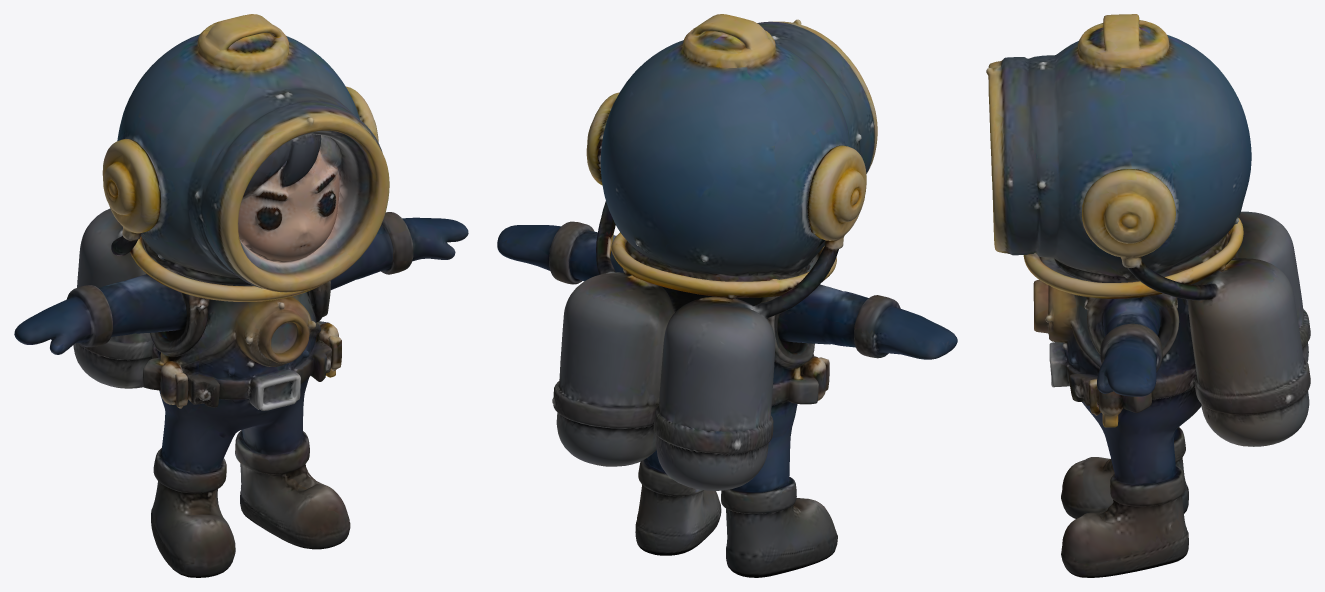
Rendered from tripo_convert_701a39bc-8394-4911-98df-e7edcb8944c2.fbx.
The picture shows the model from 3 angles, left to right: view 1: azimuth 30°, elevation 25°; view 2: azimuth 150°, elevation 25°; view 3: azimuth 270°, elevation 25°; orthographic projection.
Parts seen in each view (by area): view 1: tripo_node_701a39bc; view 2: tripo_node_701a39bc; view 3: tripo_node_701a39bc.
Part boxes in pixels (left/top/right/bottom): tripo_node_701a39bc: left=14, top=14, right=468, bottom=577; tripo_node_701a39bc: left=497, top=14, right=957, bottom=577; tripo_node_701a39bc: left=986, top=14, right=1310, bottom=577.
Bounding box in the file's own units: 89.91 × 56.78 × 100.
Materials: 1 (1 with a texture image).
